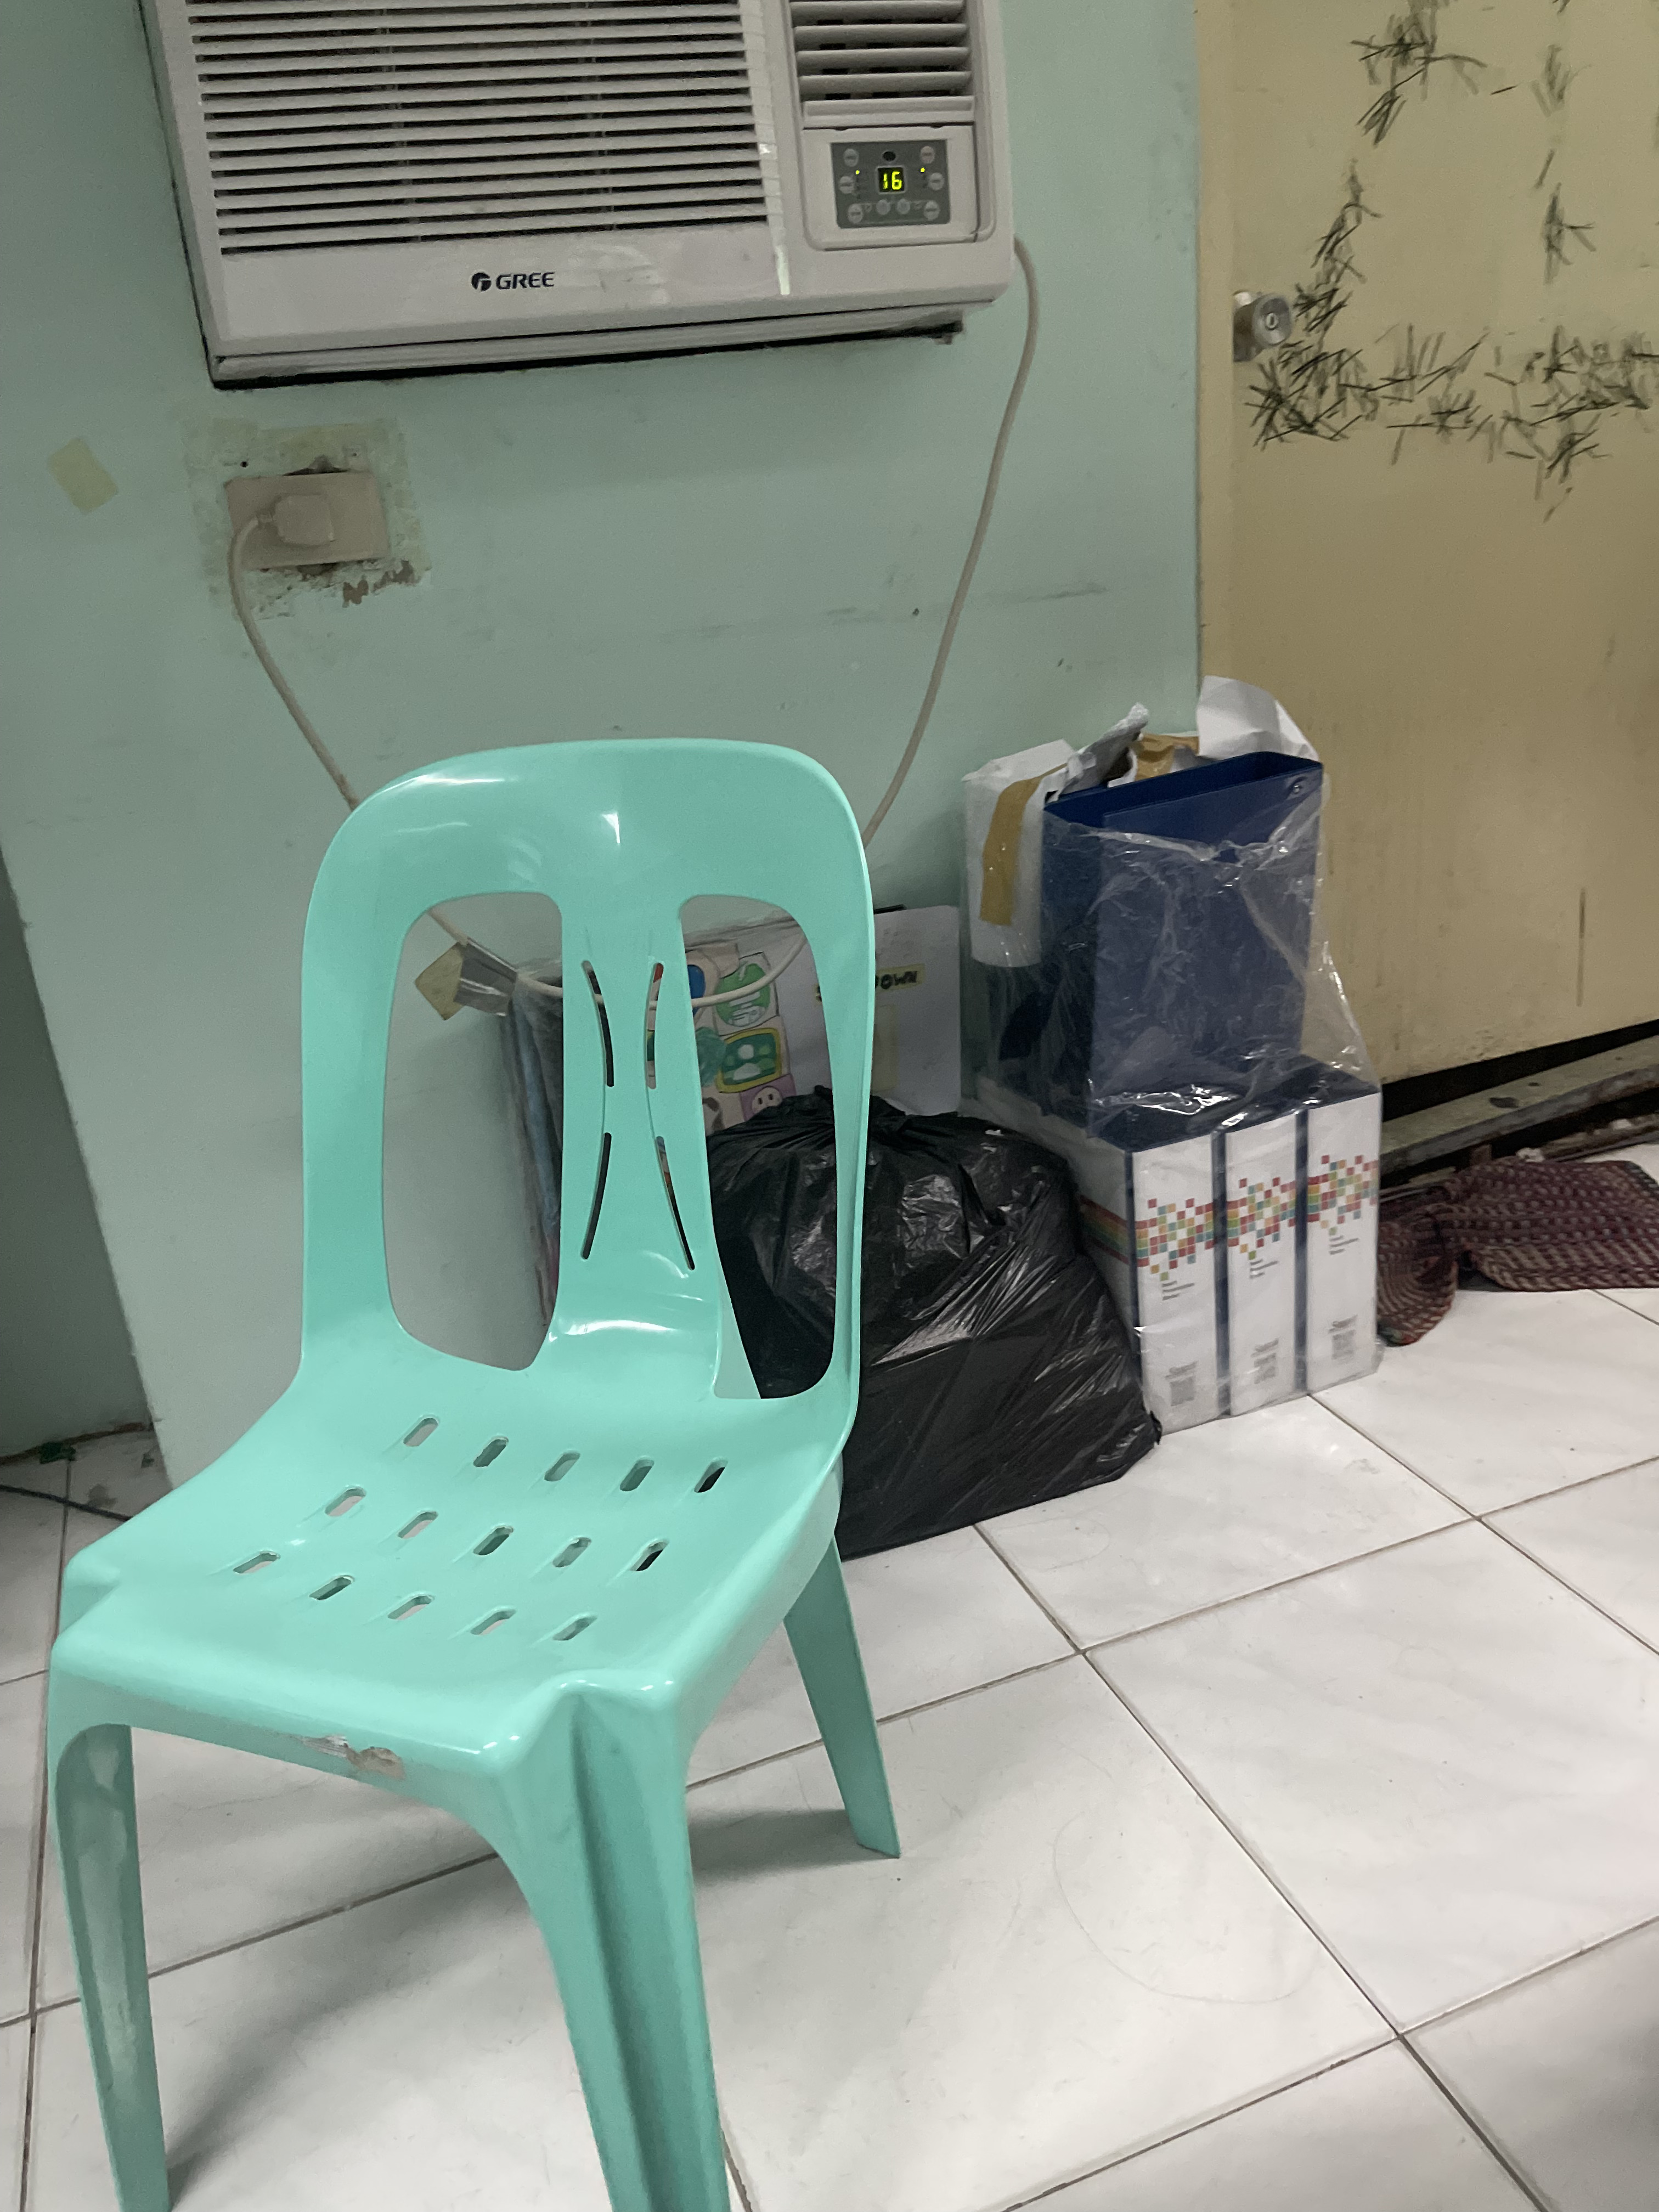chair2: (37, 737, 920, 2212)
